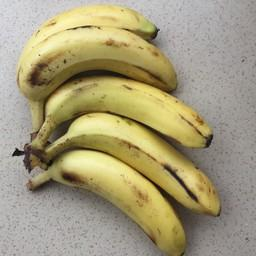Banana Ripe: (41, 104, 237, 233), (28, 141, 193, 256), (17, 67, 224, 152), (3, 21, 186, 101)
